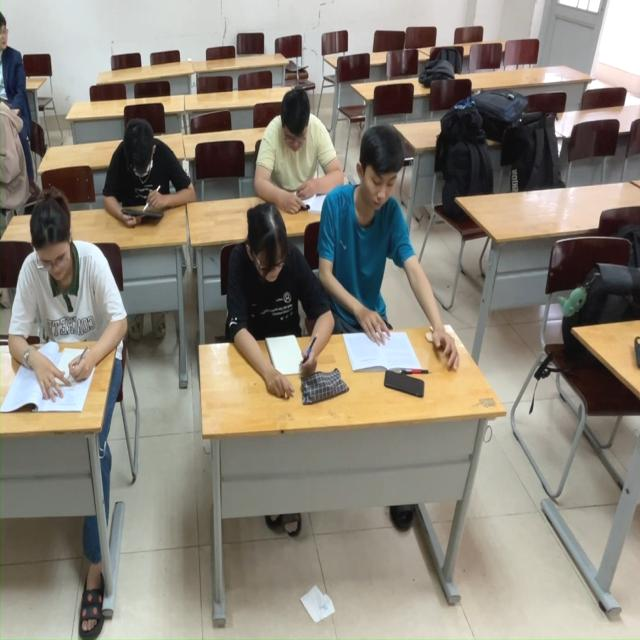read: (325, 125, 463, 380), (1, 190, 130, 424), (220, 204, 336, 403), (99, 115, 201, 226), (260, 92, 340, 206)
